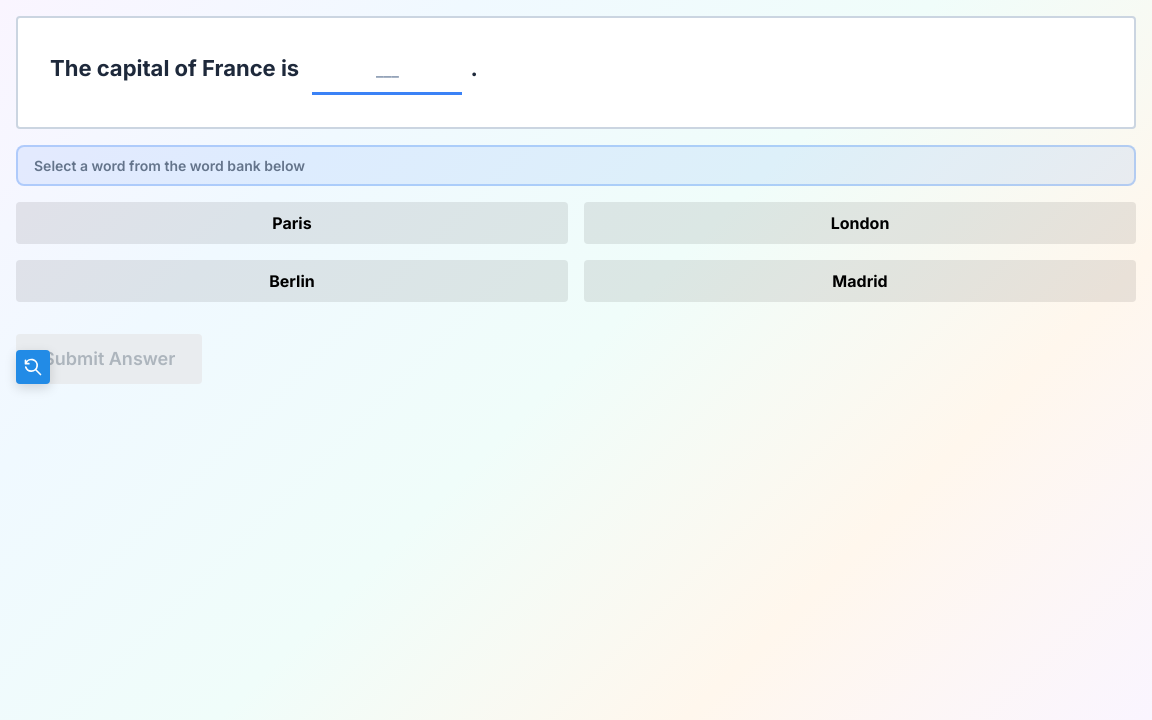
CompletionView › should enable submit button when an answer is filled
The image size is (1152, 720).
Check: the button "Submit Answer" is disabled, box [16, 334, 202, 384]
What coordinates should you click on to do the following:
click the button "Paris"
I would click on:
 (292, 223)
Its box is [16, 202, 568, 244].
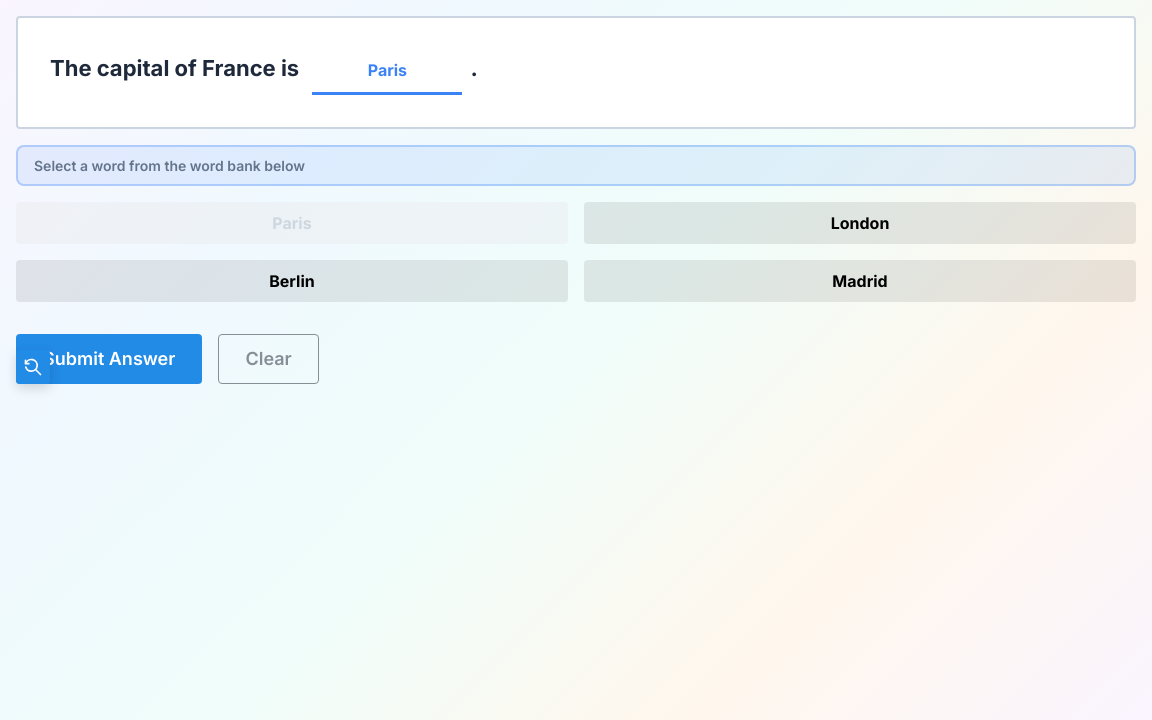
Check: the button "Submit Answer" is enabled, box [16, 334, 202, 384]
